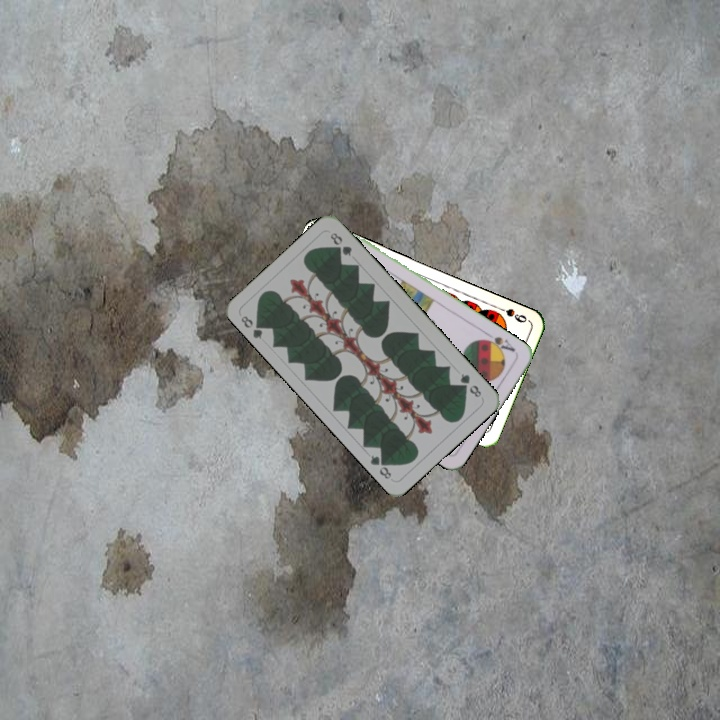G8: (237, 311, 268, 342), (456, 369, 484, 400)
S9: (492, 302, 529, 325)
SA: (479, 329, 517, 356)
